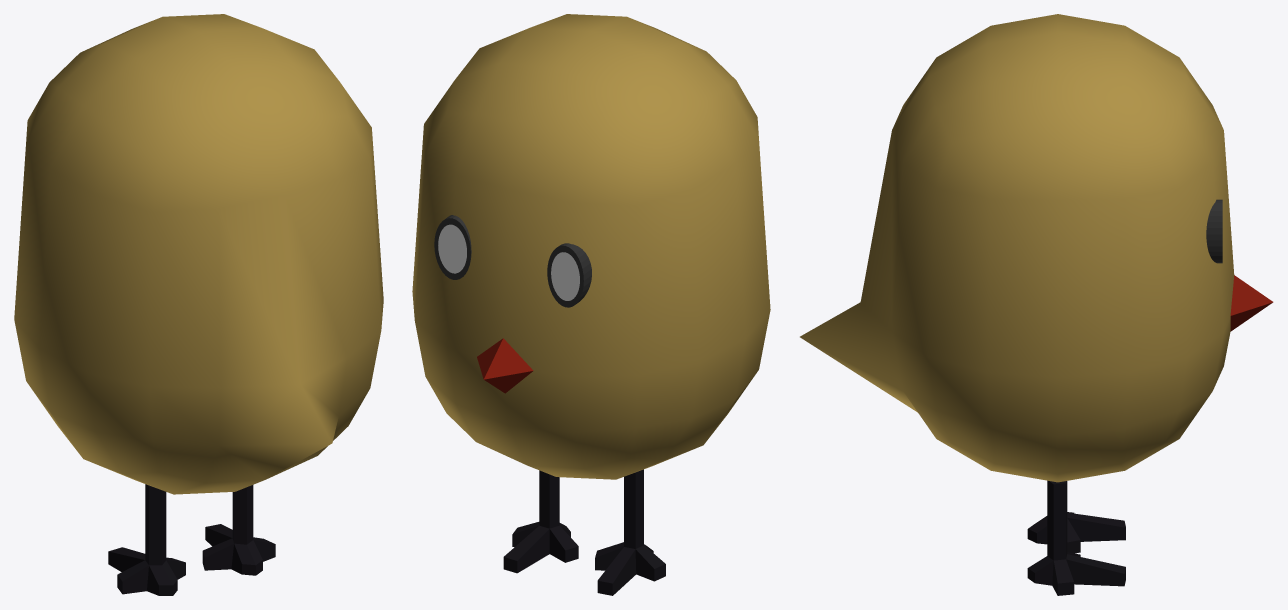
The model's file is chick.fbx.
3 views of the same model, side by side, from view 1: azimuth 30°, elevation 25°; view 2: azimuth 150°, elevation 25°; view 3: azimuth 270°, elevation 25° (orthographic). The views are drawn at different scales.
Visible parts, largest first — view 1: Cube, Cylinder; view 2: Cube, Cylinder, Circle, Cube.001; view 3: Cube, Cylinder, Cube.001, Circle.
Part boxes in pixels (x1=…): Cube: x1=14, y1=14, x2=383, y2=494; Cylinder: x1=108, y1=484, x2=275, y2=595; Cube: x1=412, y1=14, x2=770, y2=479; Cylinder: x1=503, y1=469, x2=665, y2=595; Circle: x1=434, y1=215, x2=591, y2=307; Cube.001: x1=477, y1=338, x2=533, y2=393; Cube: x1=800, y1=14, x2=1234, y2=482; Cylinder: x1=1027, y1=480, x2=1125, y2=595; Cube.001: x1=1230, y1=275, x2=1273, y2=331; Circle: x1=1206, y1=199, x2=1222, y2=263.
Size of the model in its own units: 168 by 274 by 223.
